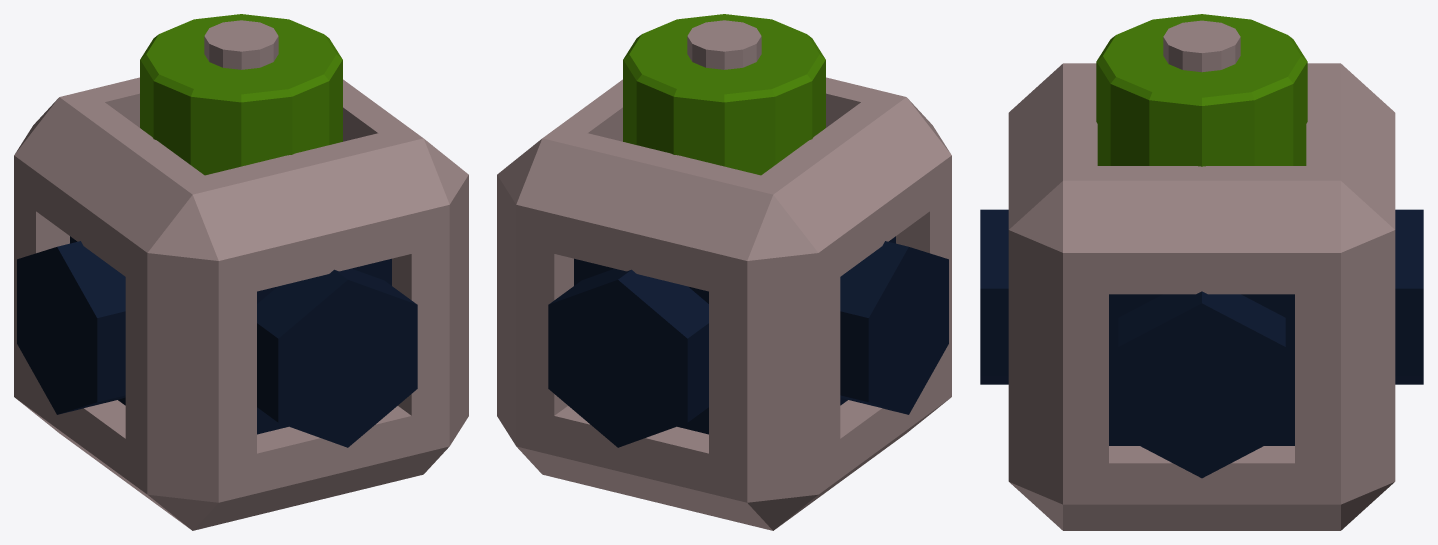
The model's file is Battery.gltf.
3 views of the same model, side by side, from view 1: azimuth 30°, elevation 25°; view 2: azimuth 150°, elevation 25°; view 3: azimuth 270°, elevation 25° (orthographic). The views are drawn at different scales.
Parts seen in each view (by area): view 1: Core.001; view 2: Core.001; view 3: Core.001.
Part boxes in pixels (x1,y1,x2,y2): Core.001: [14, 14, 468, 530]; Core.001: [497, 14, 951, 530]; Core.001: [980, 14, 1423, 530].
Size of the model in its own units: 1 by 1.08 by 1.
